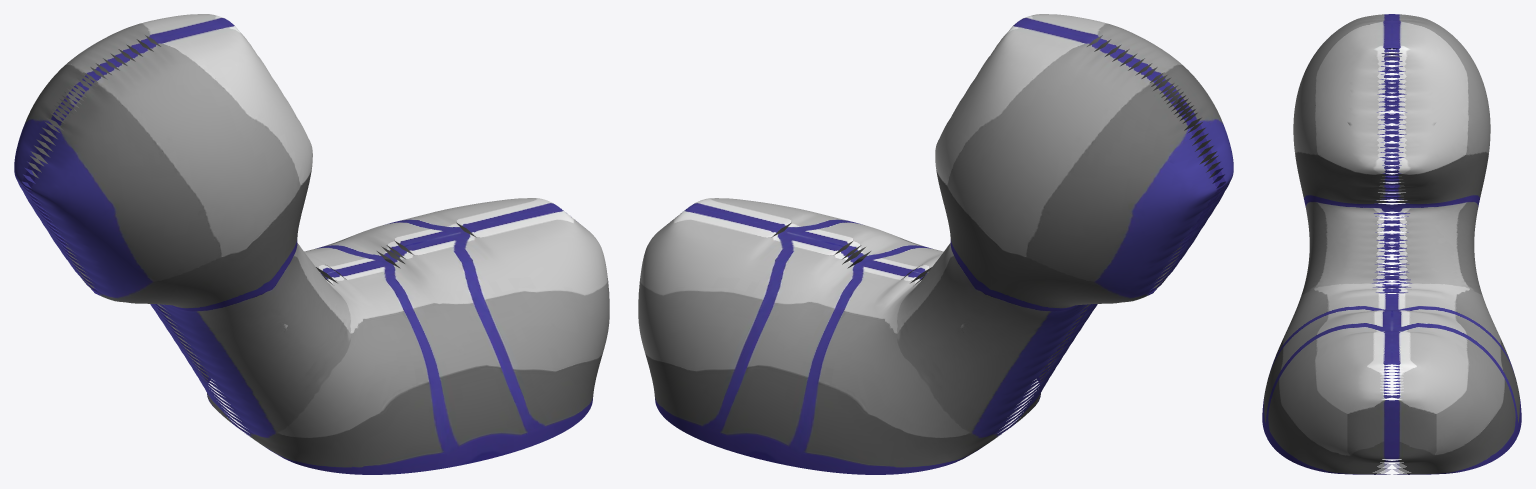
The model's file is vent_pipe.glb.
The picture shows the model from 3 angles, left to right: view 1: azimuth 30°, elevation 25°; view 2: azimuth 150°, elevation 25°; view 3: azimuth 270°, elevation 25°; orthographic projection. The views are drawn at different scales.
Visible parts, largest first — view 1: vent_pipe; view 2: vent_pipe; view 3: vent_pipe.
Part boxes in pixels (x1,y1,x2,y2): vent_pipe: [14, 14, 609, 474]; vent_pipe: [638, 14, 1233, 474]; vent_pipe: [1262, 14, 1521, 474].
Size of the model in its own units: 0.9883 by 0.6989 by 0.5308.
Materials: 1 (1 with a texture image).
